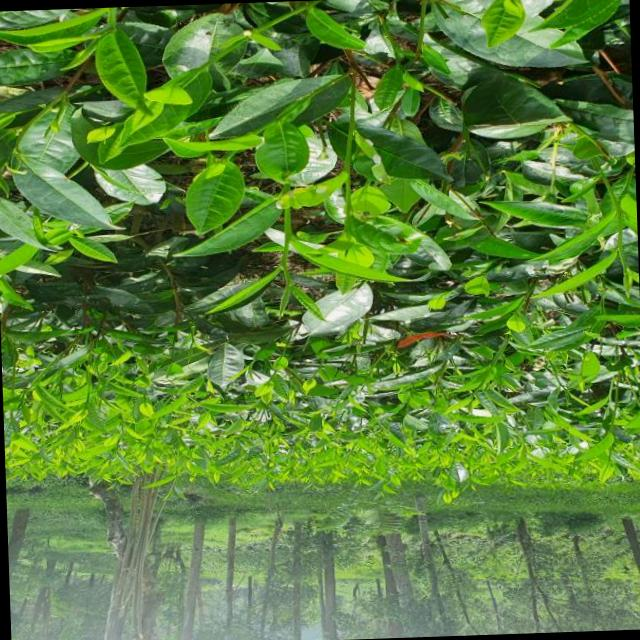Stem: (107, 16, 116, 27), (343, 162, 350, 170), (280, 260, 286, 267), (623, 263, 627, 267)
